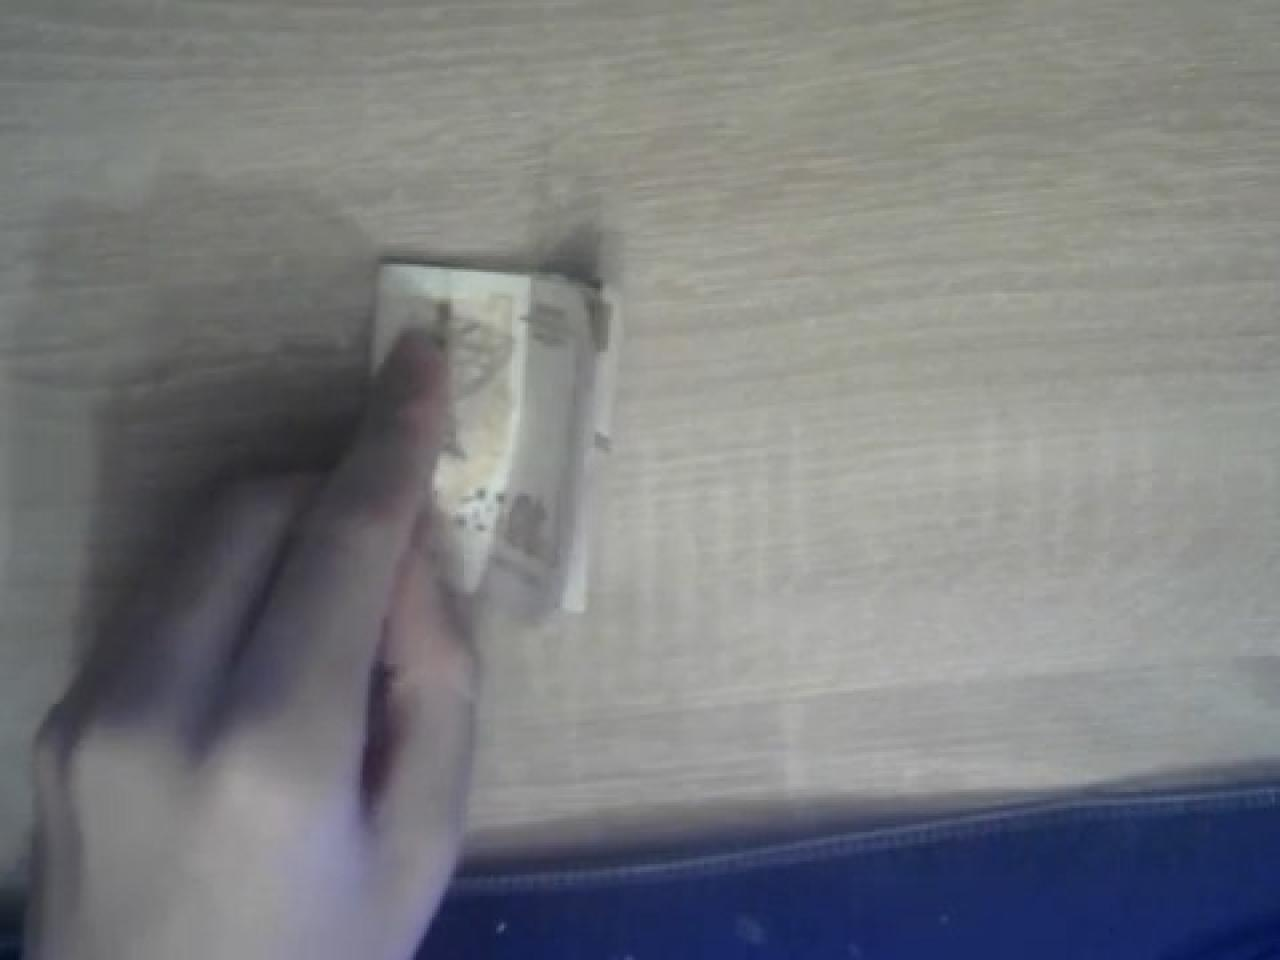10leva: (363, 259, 627, 632)
